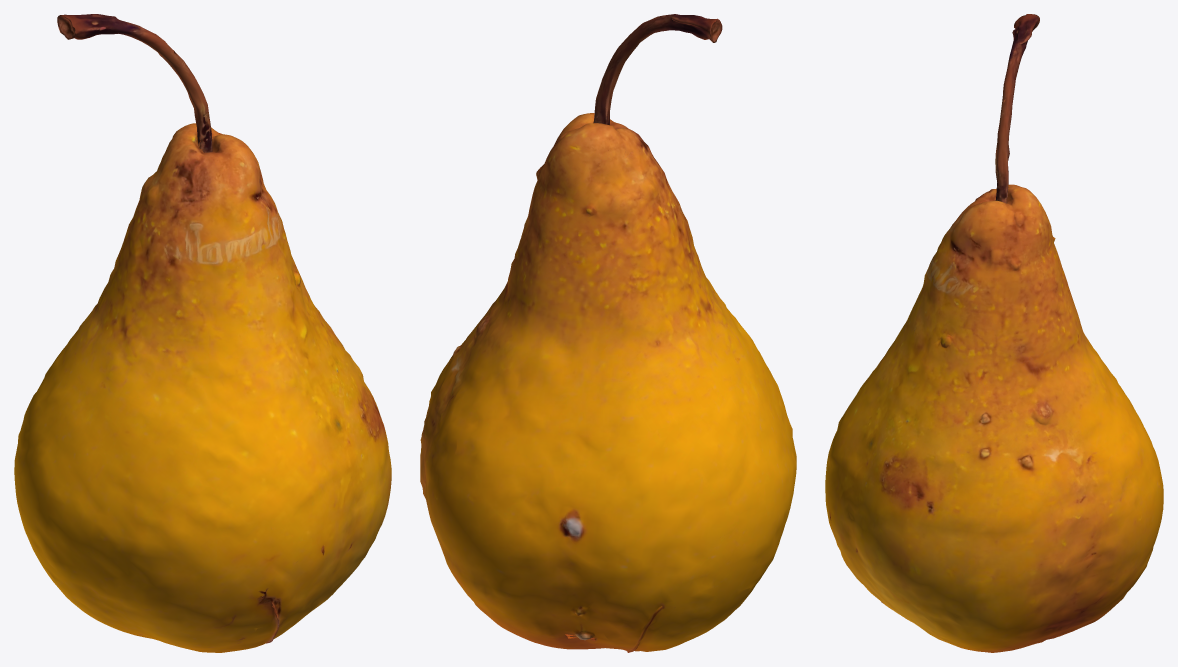
File: pear.glb
The picture shows the model from 3 angles, left to right: view 1: azimuth 30°, elevation 25°; view 2: azimuth 150°, elevation 25°; view 3: azimuth 270°, elevation 25°; orthographic projection. The views are drawn at different scales.
Size of the model in its own units: 0.5205 by 0.9517 by 0.521.
Materials: 1 (1 with a texture image).
